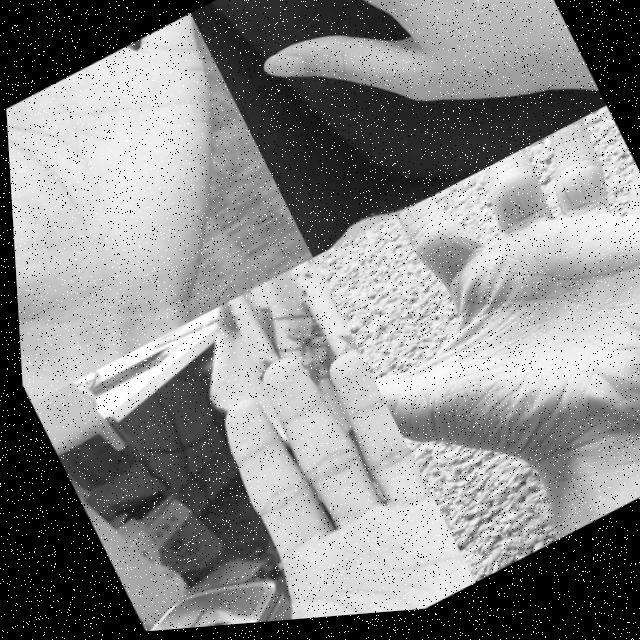no-gloves: (303, 112, 640, 554), (52, 319, 469, 638), (1, 10, 302, 379), (221, 0, 598, 230)
